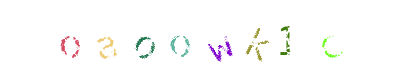1: (181, 0, 261, 80)
A: (131, 0, 211, 80)
C: (241, 0, 321, 80)
K: (165, 0, 245, 80)
O: (29, 0, 109, 80), (145, 0, 225, 80), (151, 0, 231, 80)
W: (160, 0, 240, 80)
